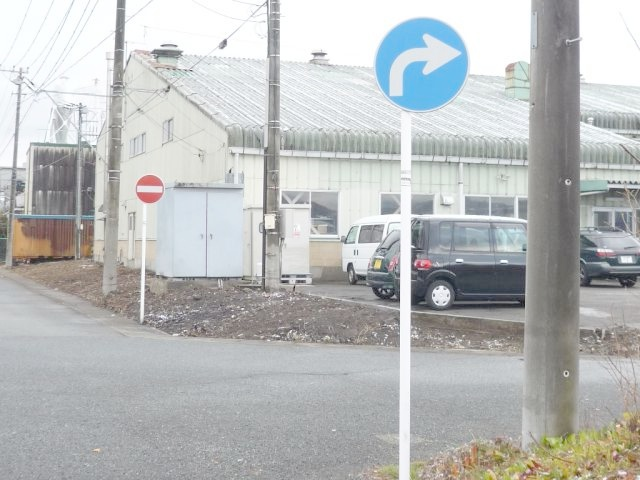Direction_sign: (369, 11, 478, 118)
